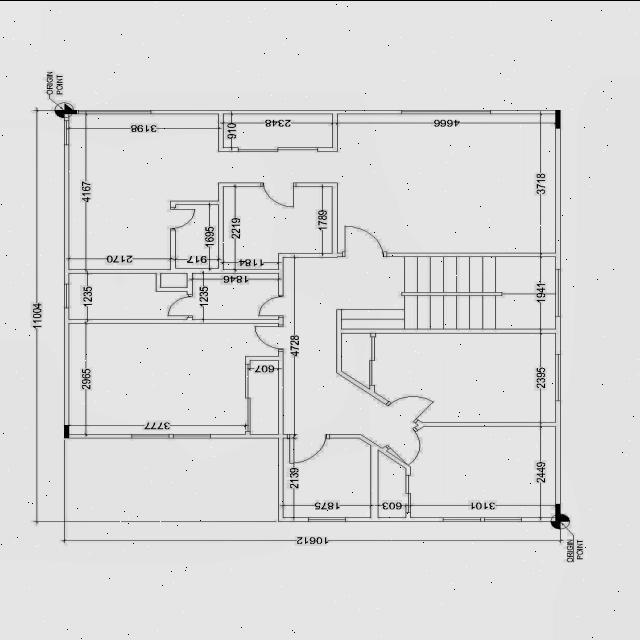Column: (64, 423, 69, 438), (556, 110, 560, 128), (556, 502, 560, 520), (64, 109, 77, 113)
Door: (385, 381, 436, 423), (382, 426, 434, 465), (342, 224, 387, 256), (287, 433, 330, 463), (260, 182, 296, 206), (254, 324, 284, 351), (170, 207, 196, 230), (258, 294, 284, 317), (168, 294, 192, 316)
Sliding Door: (245, 363, 250, 431), (238, 146, 318, 150), (406, 474, 412, 512), (370, 336, 374, 384)
Staircase: (342, 256, 556, 328)
Window: (401, 109, 491, 113), (77, 109, 152, 113), (556, 268, 560, 316), (556, 353, 560, 400), (443, 516, 481, 520), (484, 516, 522, 520), (308, 516, 346, 520), (132, 433, 170, 437), (173, 433, 211, 437), (64, 119, 69, 144), (64, 283, 69, 307)
